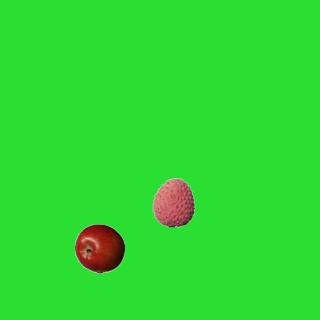Apple Braeburn: (74, 223, 124, 273)
Lychee: (148, 177, 198, 227)
